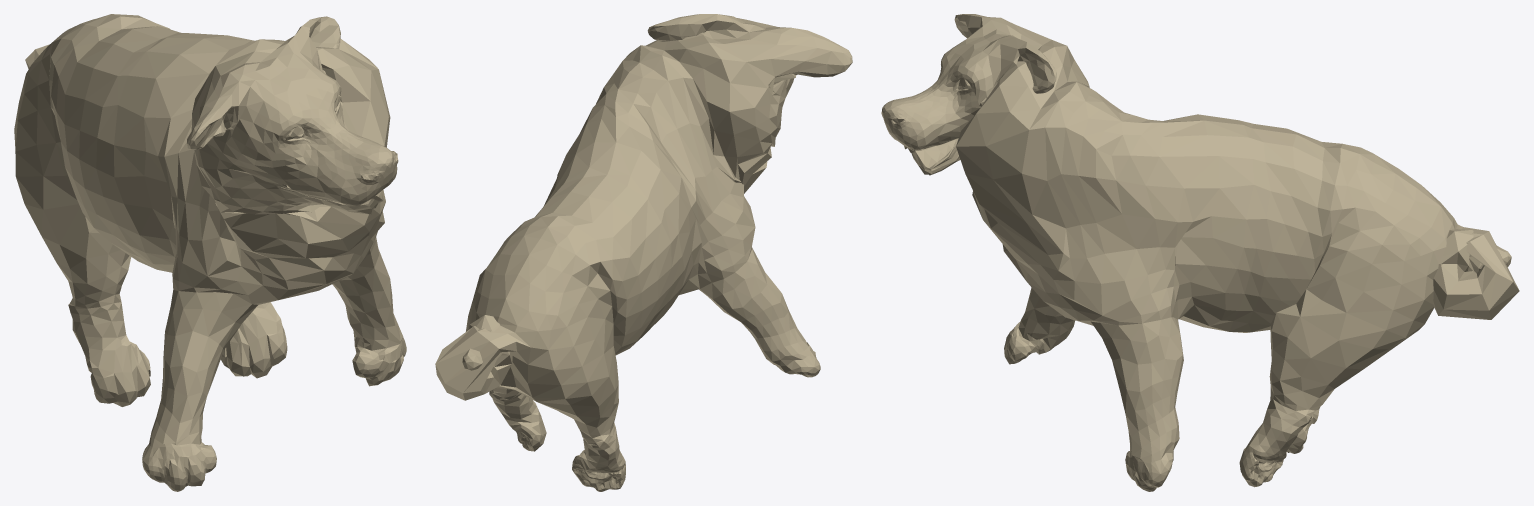
The picture shows the model from 3 angles, left to right: view 1: azimuth 30°, elevation 25°; view 2: azimuth 150°, elevation 25°; view 3: azimuth 270°, elevation 25°; orthographic projection. The views are drawn at different scales.
Visible parts, largest first — view 1: world; view 2: world; view 3: world.
Part boxes in pixels (bbox=[...]): world: bbox=[14, 14, 406, 491]; world: bbox=[435, 14, 852, 491]; world: bbox=[881, 14, 1519, 491].
Bounding box in the file's own units: 0.5587 × 0.7825 × 1.08.
